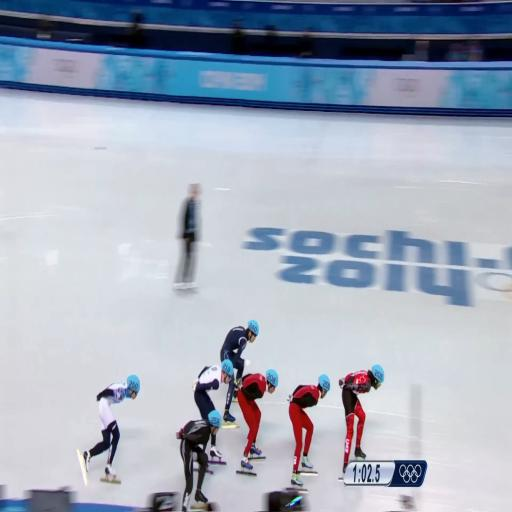Skater: (83, 375, 140, 482), (339, 365, 384, 475), (288, 375, 330, 487), (176, 410, 221, 511), (237, 369, 278, 475), (221, 320, 258, 423), (194, 360, 233, 420)
